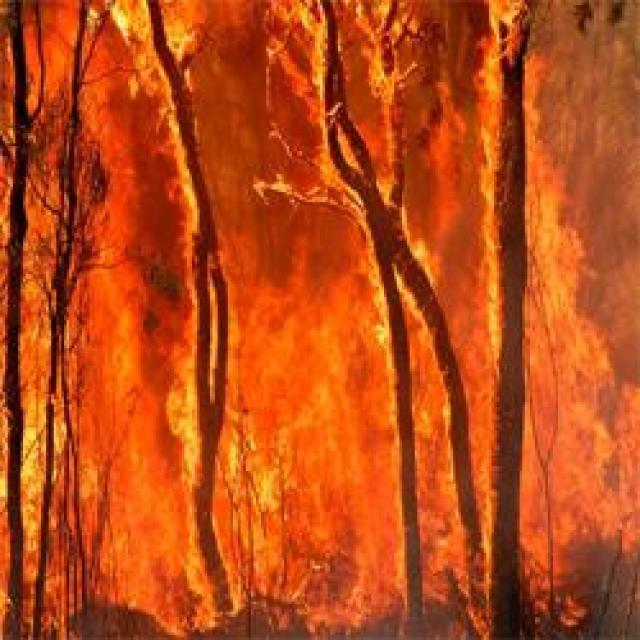Fire: (235, 296, 392, 580), (78, 246, 198, 562), (519, 210, 626, 510)
